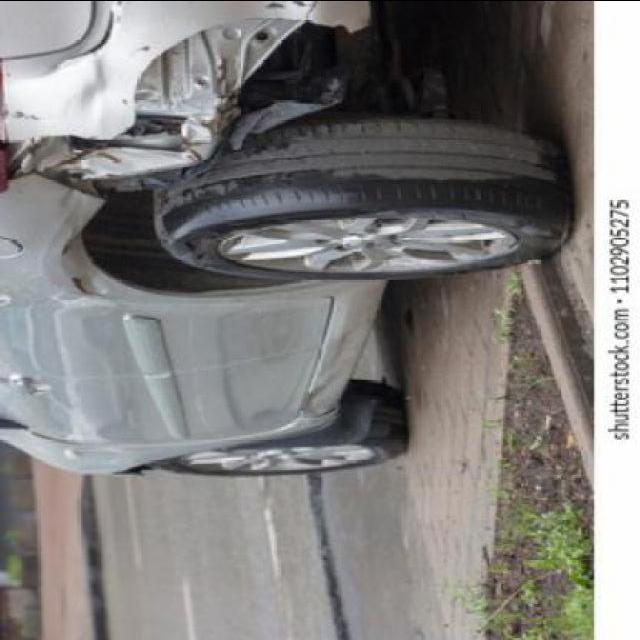Major-Rear-Bumper-Dent: (7, 3, 357, 235)
